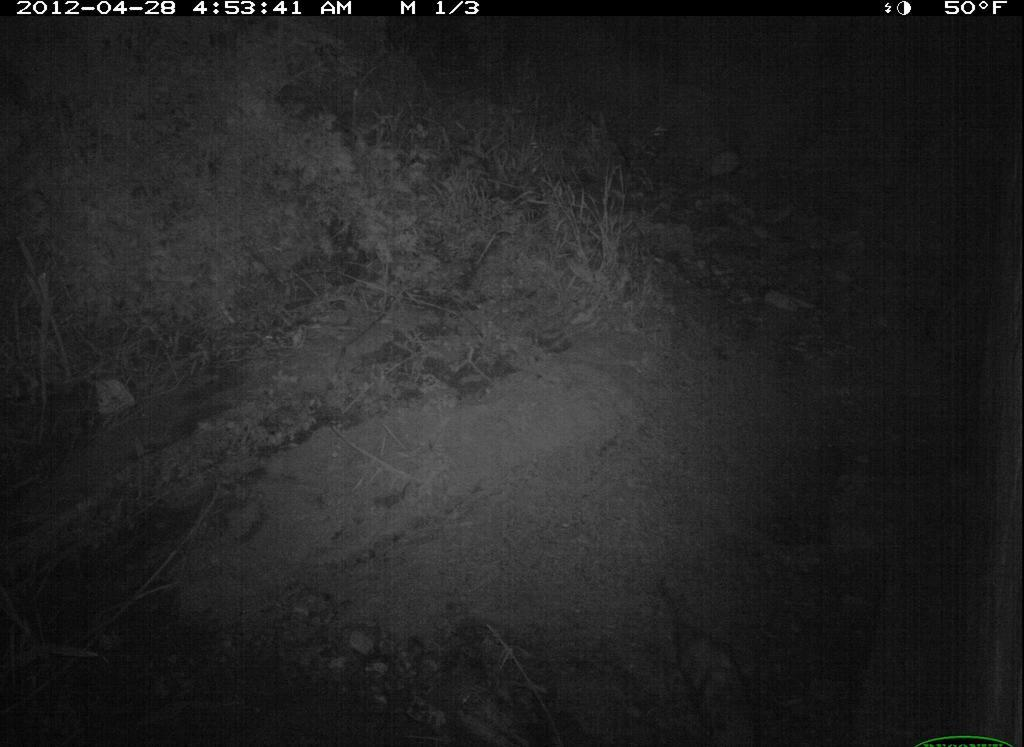opossum: (638, 569, 770, 745)
